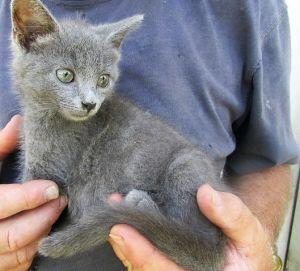rblue: (1, 1, 145, 140)
